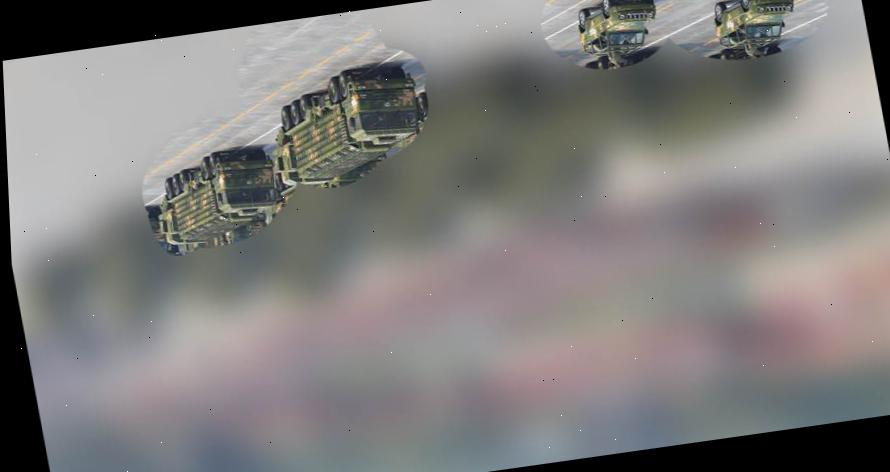armored_car: (570, 0, 665, 63), (707, 0, 803, 58)
truck: (261, 60, 441, 196), (142, 142, 294, 255)
